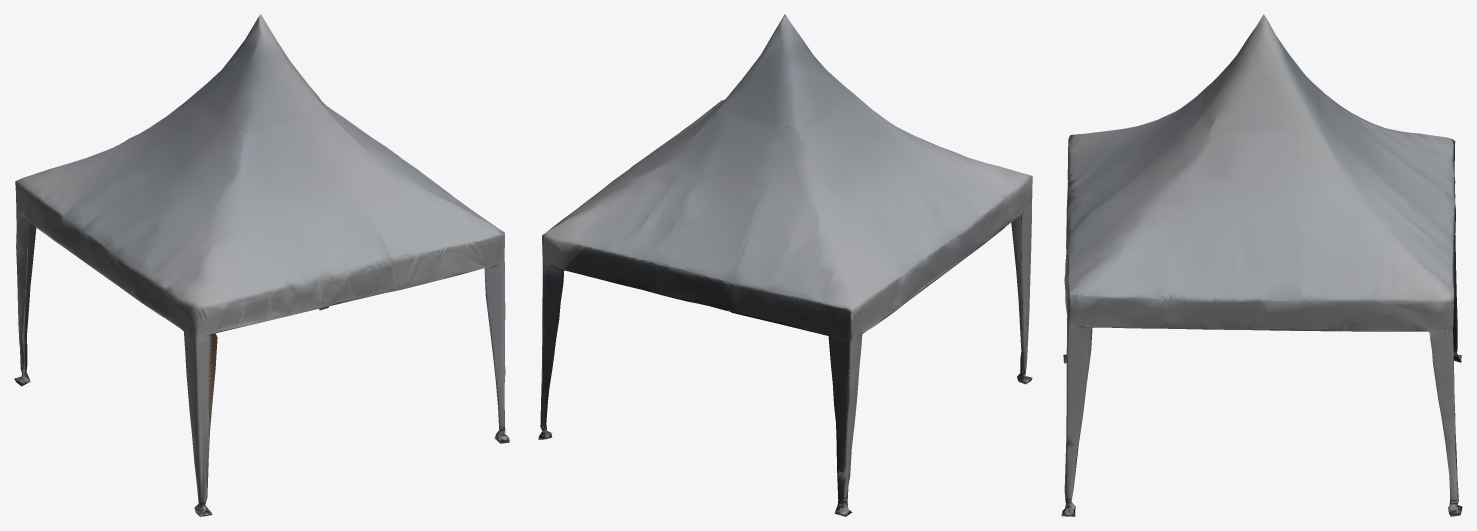
Rendered from tenda_kecil.glb.
3 renders of one model, left to right at view 1: azimuth 30°, elevation 25°; view 2: azimuth 150°, elevation 25°; view 3: azimuth 270°, elevation 25°, orthographic. The views are drawn at different scales.
Parts seen in each view (by area): view 1: tripo_node_58a47f0d; view 2: tripo_node_58a47f0d; view 3: tripo_node_58a47f0d.
Boxes of the visible parts, left/top/right/bottom form: tripo_node_58a47f0d: left=14, top=14, right=509, bottom=516; tripo_node_58a47f0d: left=538, top=14, right=1032, bottom=516; tripo_node_58a47f0d: left=1061, top=14, right=1462, bottom=516.
Bounding box in the file's own units: 83.7 × 101 × 86.31.
Materials: 1 (1 with a texture image).
